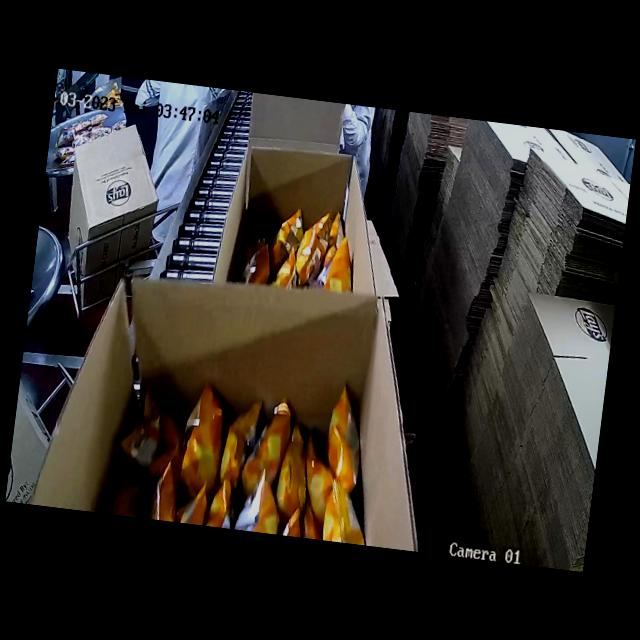cheese: (100, 378, 385, 546), (238, 213, 364, 295)
